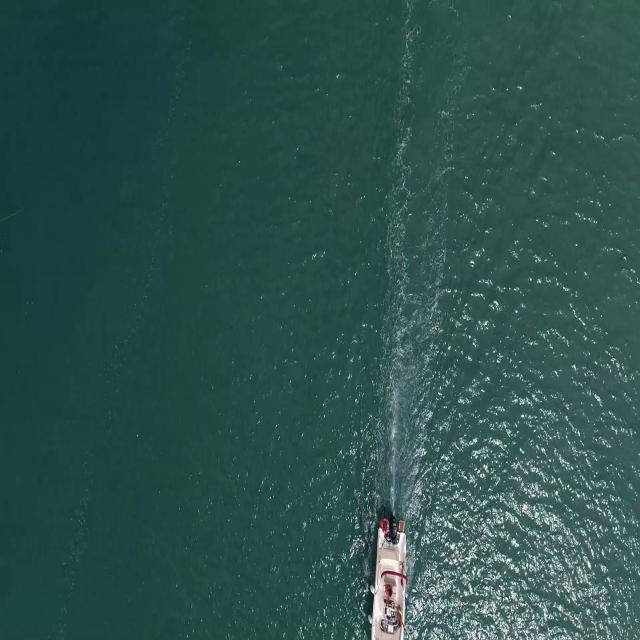boat: (367, 530, 408, 640)
life_buoy: (380, 515, 392, 534)
person: (384, 583, 394, 607), (395, 608, 405, 631)
